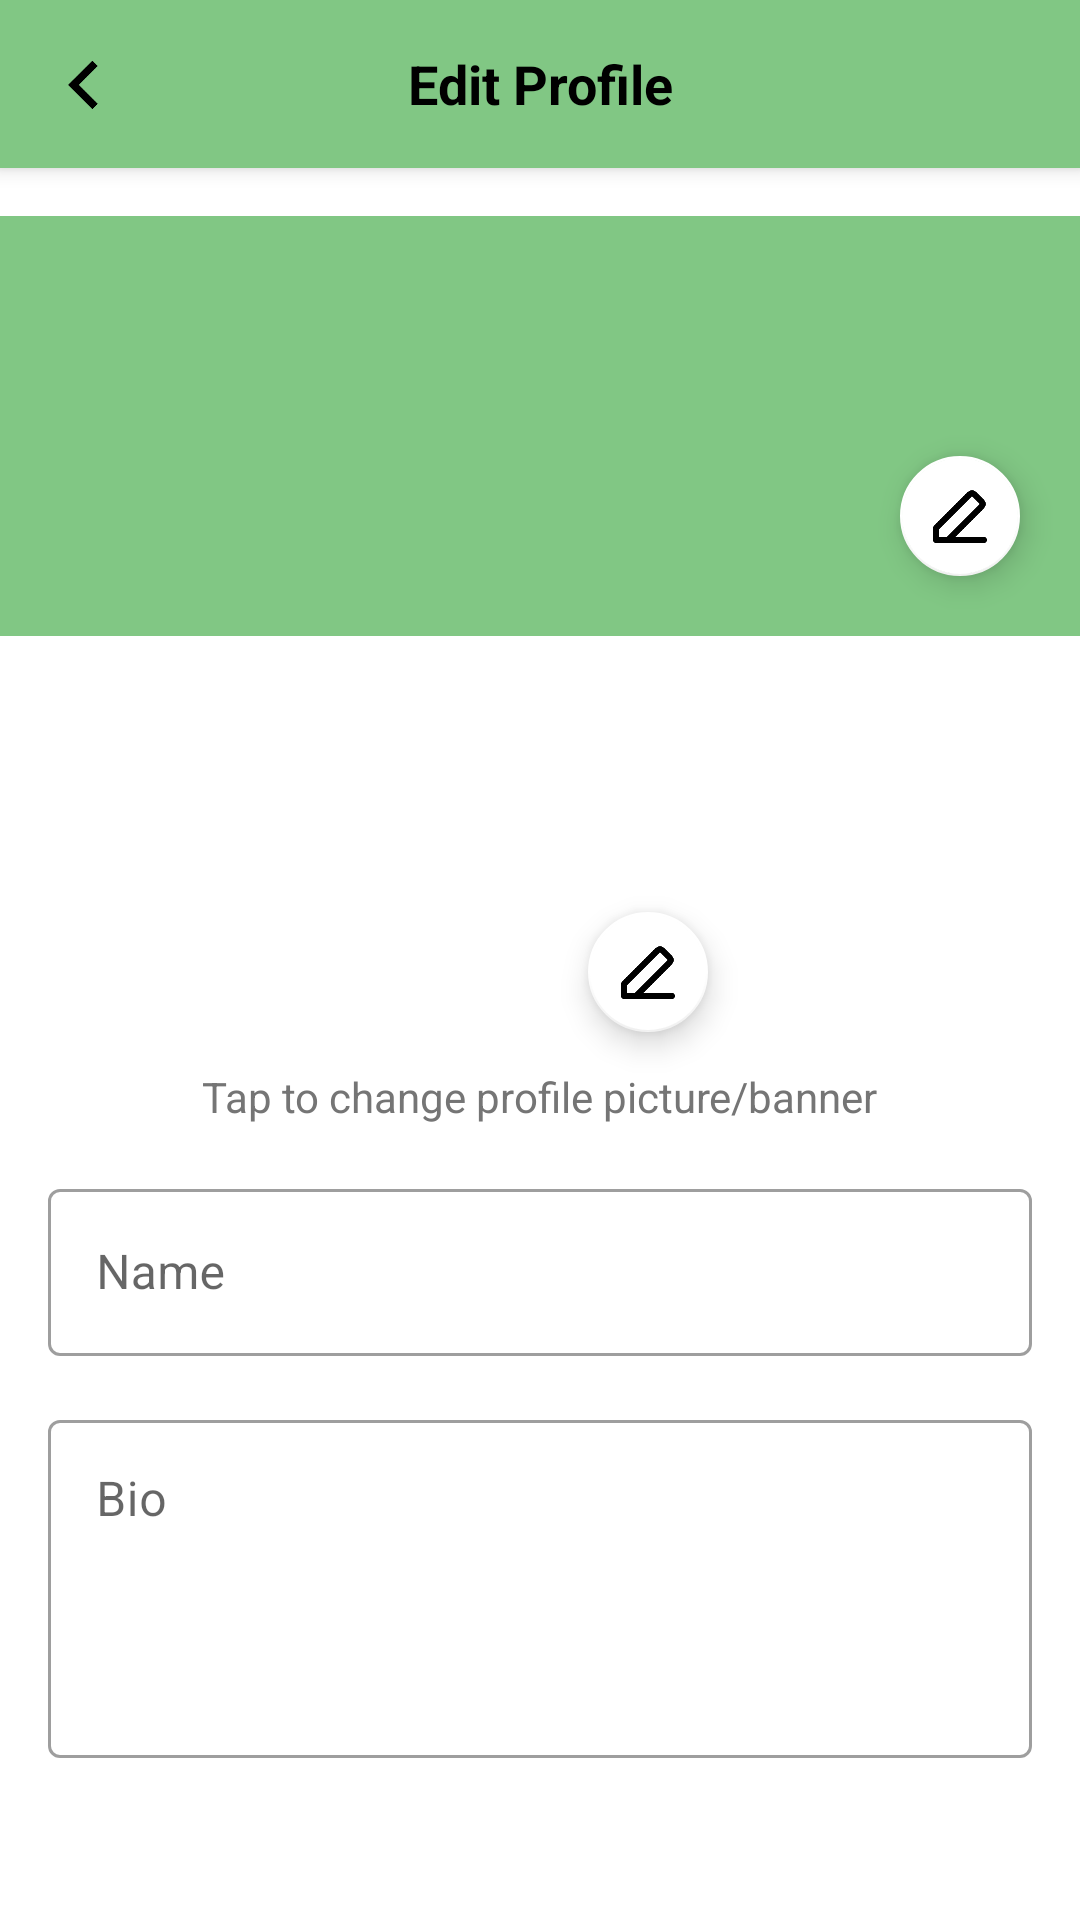

Locate icon controls on the screen. Image size 1080px×1920px, boxes as (x1, y1, x2, y2).
edit: (900, 456, 1020, 577), (590, 946, 709, 1039)
